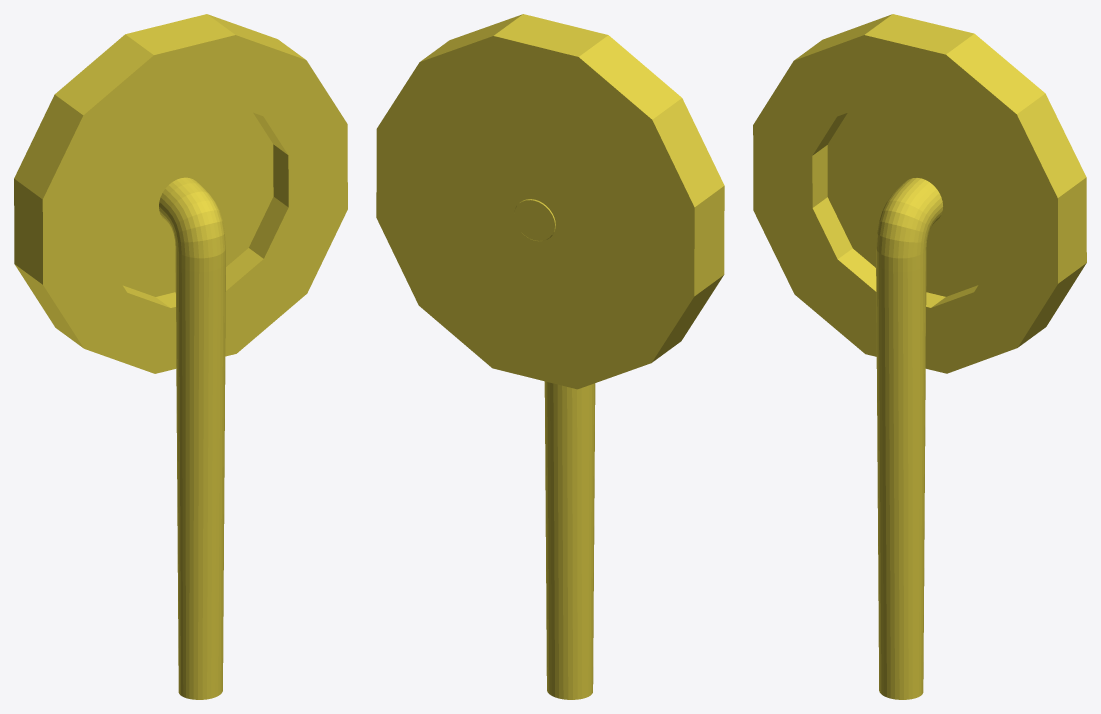
The model's file is CircleLink.fbx.
3 views of the same model, side by side, from view 1: azimuth 30°, elevation 25°; view 2: azimuth 150°, elevation 25°; view 3: azimuth 330°, elevation 25° (orthographic). The views are drawn at different scales.
Parts seen in each view (by area): view 1: BOX.004; view 2: BOX.004; view 3: BOX.004.
Boxes of the visible parts, <box> form: BOX.004: <box>14,14,347,699</box>; BOX.004: <box>376,14,724,699</box>; BOX.004: <box>753,14,1086,699</box>.
Size of the model in its own units: 79.28 by 160 by 21.02.
